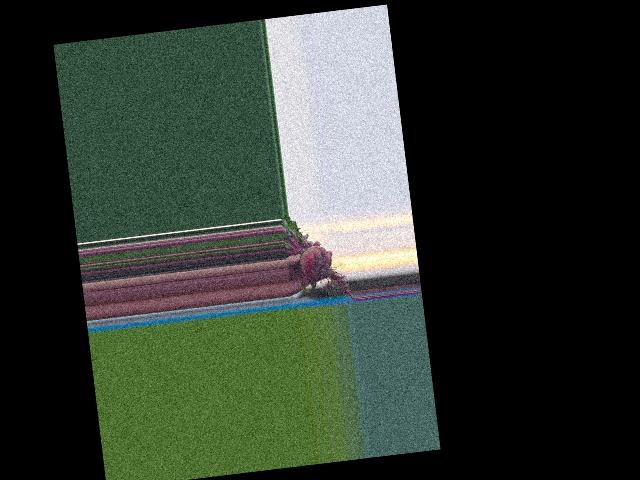beet: (280, 209, 355, 307)
